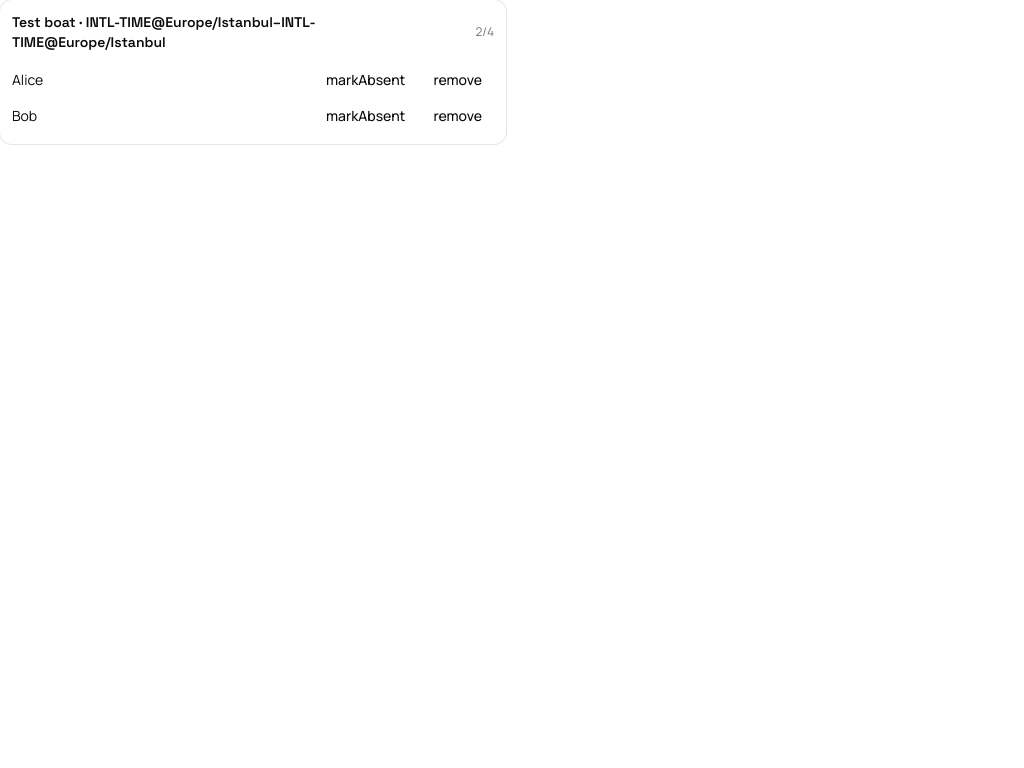
BookingsRoster mark-absent flow › formats the ban date through the request locale and the club timezone
Click the button "markAbsent" in the row of "Alice" at (366, 80), box 314,64 -> 417,96
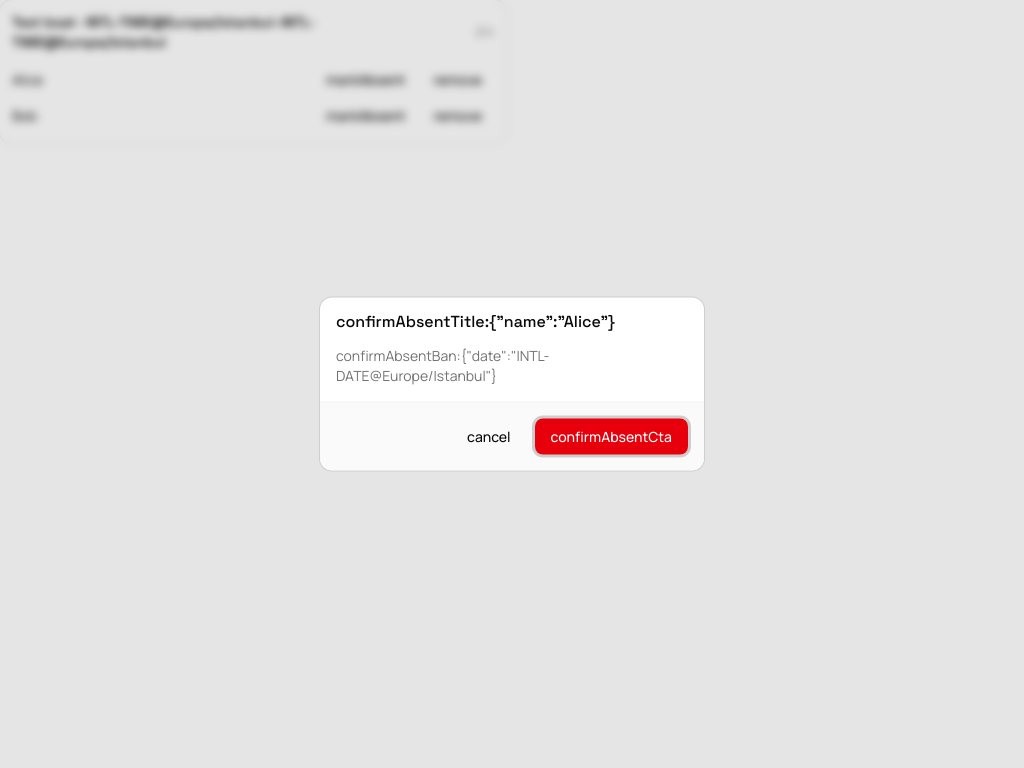
Check: the text "confirmAbsentBan:{\"date\":\"INTL-DATE@Europe/Istanbul\"}" is shown, box 336,346 -> 550,384
